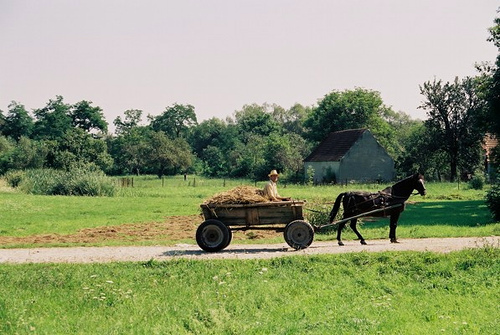horse: (328, 170, 428, 246)
